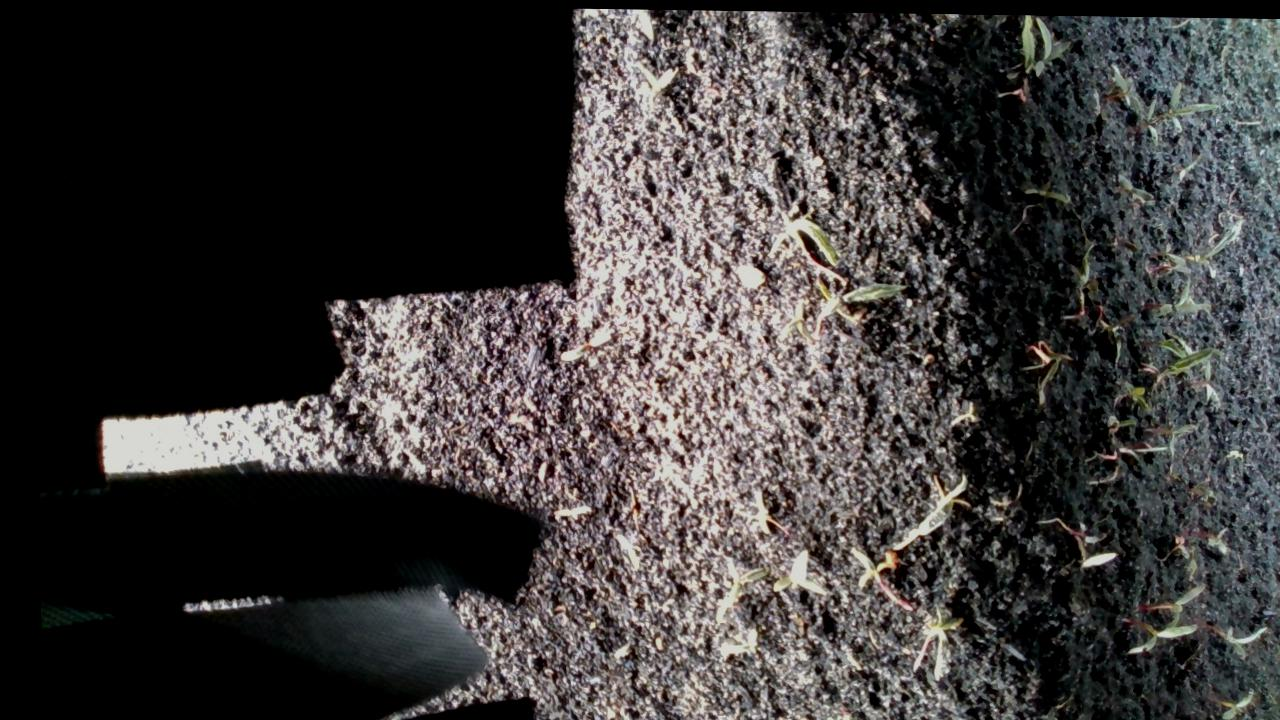weed: (549, 326, 609, 360)
